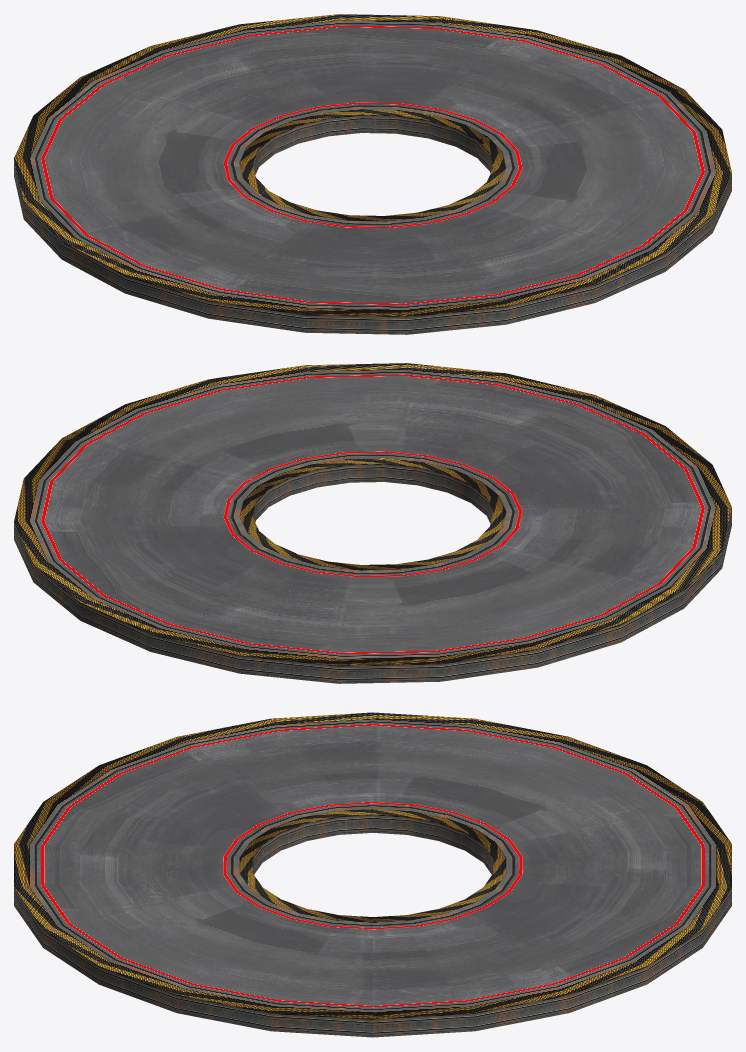
The model's file is Ramp_c4.FBX.
3 views of the same model, one above another, from view 1: azimuth 30°, elevation 25°; view 2: azimuth 150°, elevation 25°; view 3: azimuth 270°, elevation 25° (orthographic).
Visible parts, largest first — view 1: Box015; view 2: Box015; view 3: Box015.
Boxes of the visible parts, x1,y1,x2,y2 form: Box015: (14, 14, 731, 334); Box015: (14, 363, 731, 683); Box015: (14, 712, 731, 1037).
Size of the model in its own units: 2874 by 80.84 by 2844.
1 material, 1 textured.
